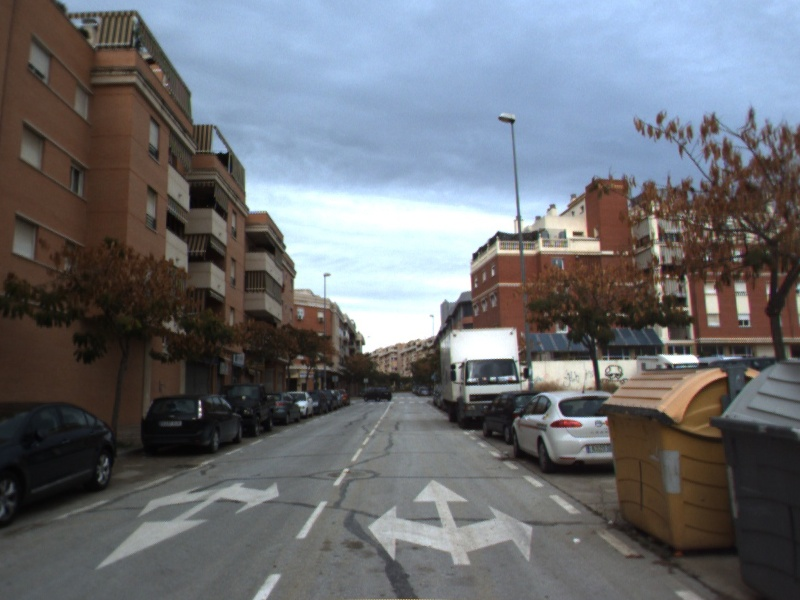STRAIGHT_LEFT_RIGHT: (365, 477, 536, 567)
